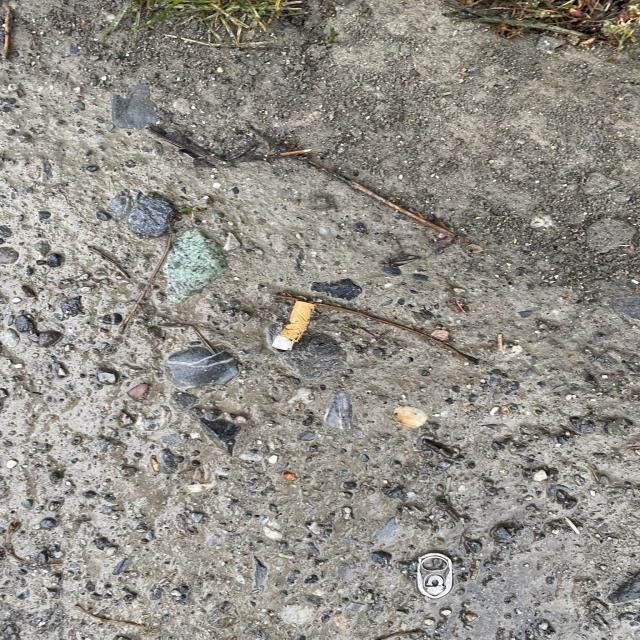other waste: (271, 300, 317, 351)
